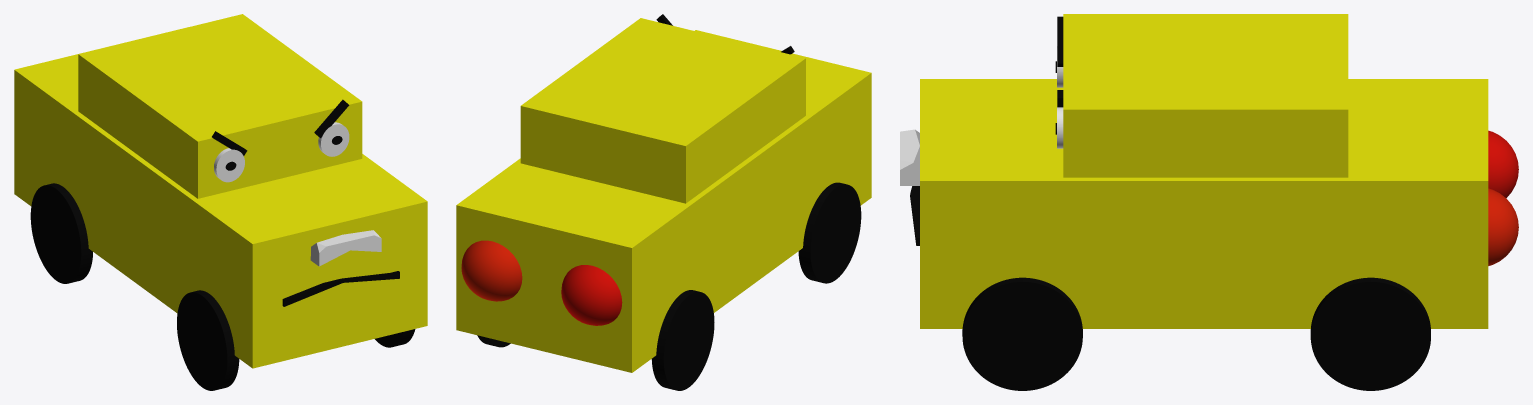
The model's file is carro.fbx.
The picture shows the model from 3 angles, left to right: view 1: azimuth 30°, elevation 25°; view 2: azimuth 150°, elevation 25°; view 3: azimuth 270°, elevation 25°; orthographic projection. The views are drawn at different scales.
Parts seen in each view (by area): view 1: Cube, Cube.001, Cilindro.002, Cilindro, Cubo, Cubo.001, Cilindro.005, Cilindro.006, Cilindro.004, Cubo.003; view 2: Cube, Cube.001, Cilindro.002, Cilindro, Esfera UV.001, Esfera UV, Cilindro.001; view 3: Cube, Cube.001, Cilindro.004, Cilindro.003, Esfera UV, Esfera UV.001, Cubo.
Part boxes in pixels (x1,y1,x2,y2): Cube: [14, 29, 427, 368]; Cube.001: [78, 14, 362, 198]; Cilindro.002: [30, 183, 92, 283]; Cilindro: [177, 292, 239, 390]; Cubo: [310, 230, 381, 266]; Cubo.001: [282, 271, 399, 306]; Cilindro.005: [214, 148, 244, 182]; Cilindro.006: [318, 122, 349, 156]; Cilindro.004: [375, 329, 415, 347]; Cubo.003: [314, 99, 349, 138]; Cube: [456, 30, 871, 372]; Cube.001: [520, 18, 805, 203]; Cilindro.002: [651, 290, 714, 390]; Cilindro: [810, 182, 861, 283]; Esfera UV.001: [561, 265, 622, 325]; Esfera UV: [461, 240, 522, 301]; Cilindro.001: [798, 183, 842, 282]; Cube: [920, 79, 1488, 328]; Cube.001: [1063, 14, 1348, 177]; Cilindro.004: [962, 277, 1082, 390]; Cilindro.003: [1310, 277, 1430, 390]; Esfera UV: [1488, 188, 1518, 265]; Esfera UV.001: [1488, 130, 1518, 198]; Cubo: [900, 129, 919, 185].
Size of the model in its own units: 217 by 259 by 514.
